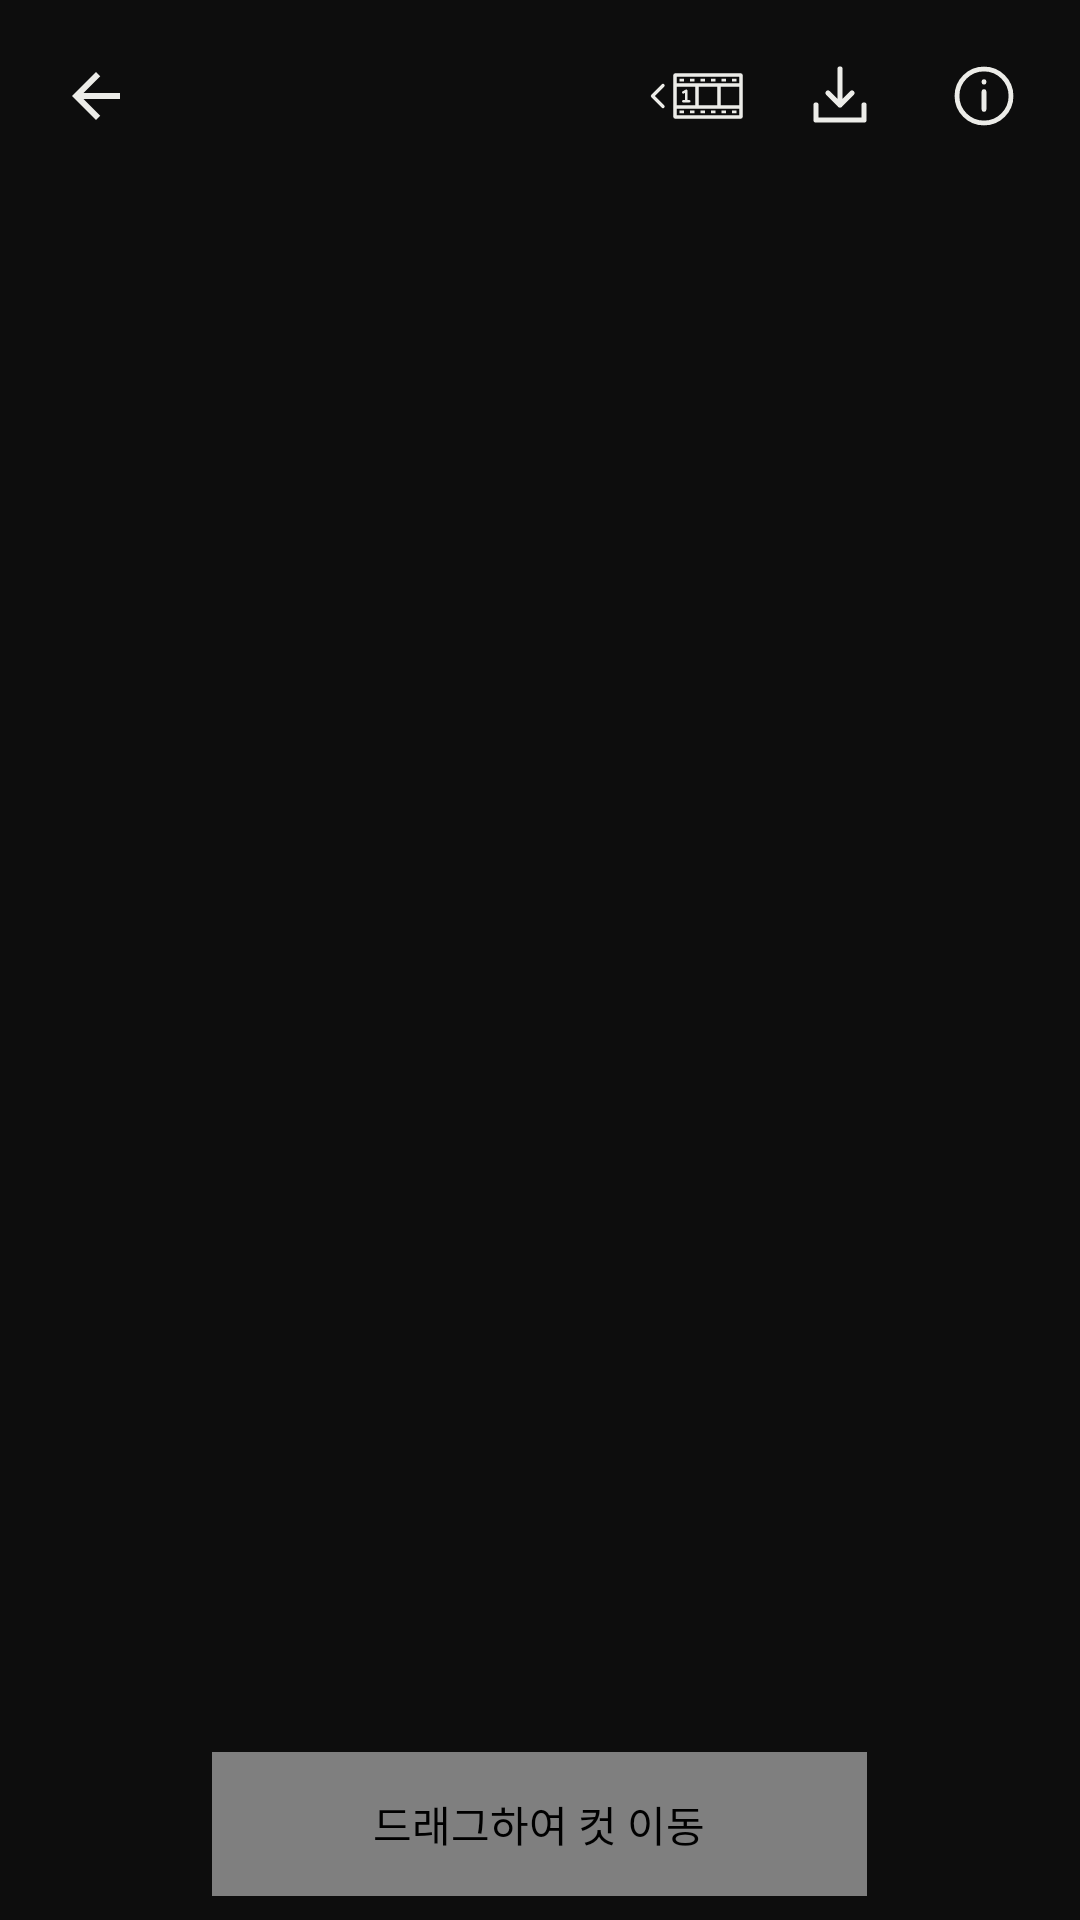

Icon click points for this 1080px×1920px phone screenshot, format (x=x, y=y):
1번 컷이 있는 첫 페이지로 이동: (x=697, y=96)
Export photos as ZIP: (x=840, y=94)
롤 정보: (x=984, y=96)
필름 노트로 돌아가기: (x=96, y=96)
